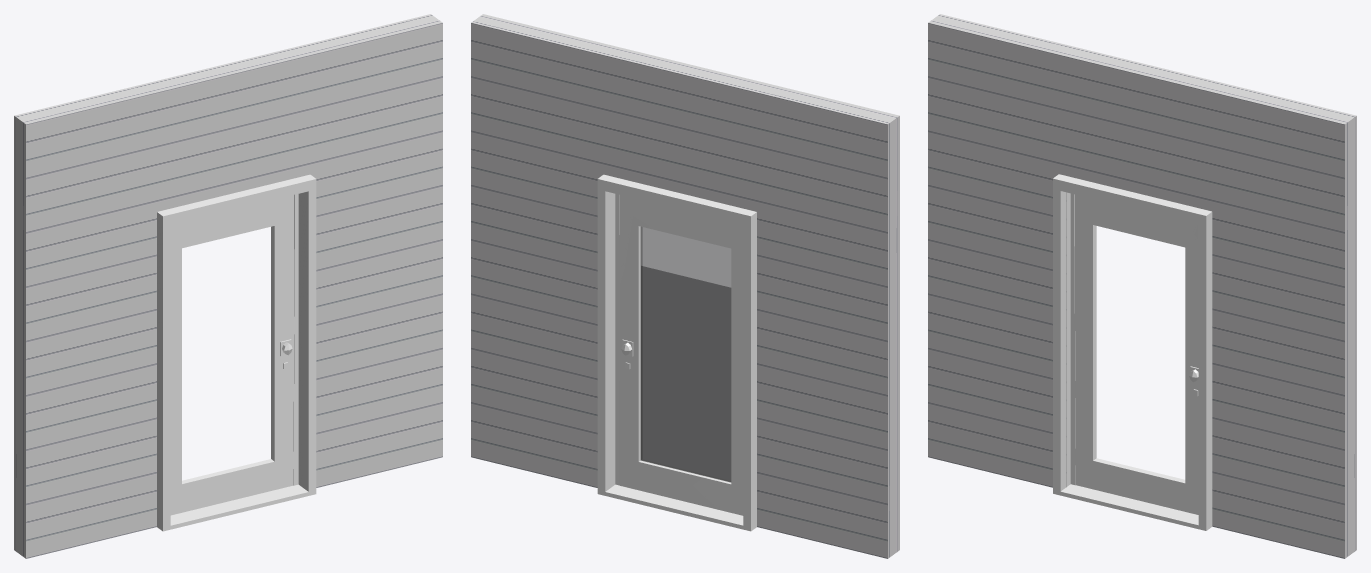
File: doorway-1.glb
3 views of the same model, side by side, from view 1: azimuth 30°, elevation 25°; view 2: azimuth 150°, elevation 25°; view 3: azimuth 330°, elevation 25° (orthographic).
Visible parts, largest first — view 1: Doorway, Door; view 2: Doorway, Door; view 3: Doorway, Door.
Part boxes in pixels (x1,y1,x2,y2): Doorway: (14,14,442,558); Door: (170,195,294,515); Doorway: (471,14,899,558); Door: (619,195,743,515); Doorway: (928,14,1356,558); Door: (1075,194,1198,514).
Bounding box in the file's own units: 2.52 × 2.51 × 0.252.
3 materials, 1 textured.
